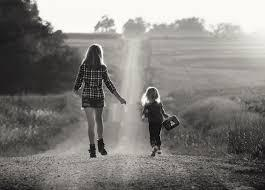child: (136, 85, 181, 157)
